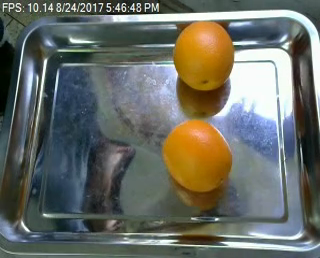Orange: (160, 119, 231, 191), (171, 20, 232, 92)
